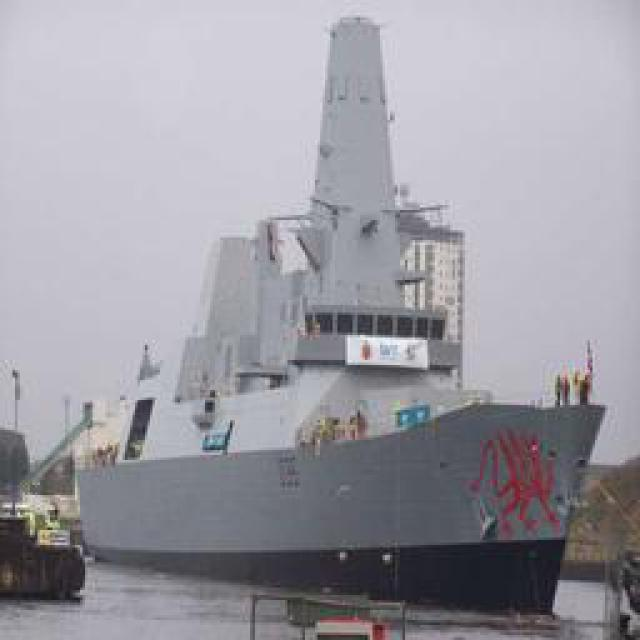Ship: (68, 7, 616, 605)
